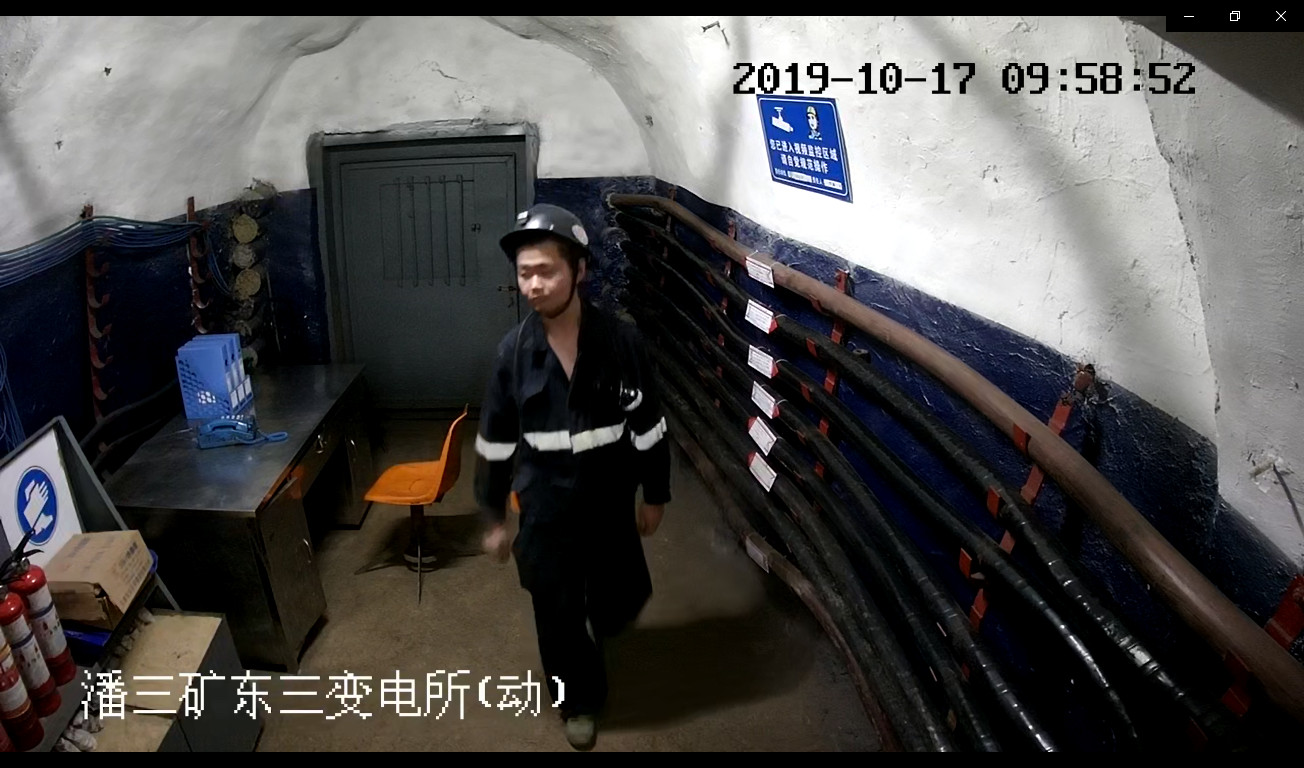helmet: (498, 203, 589, 265)
